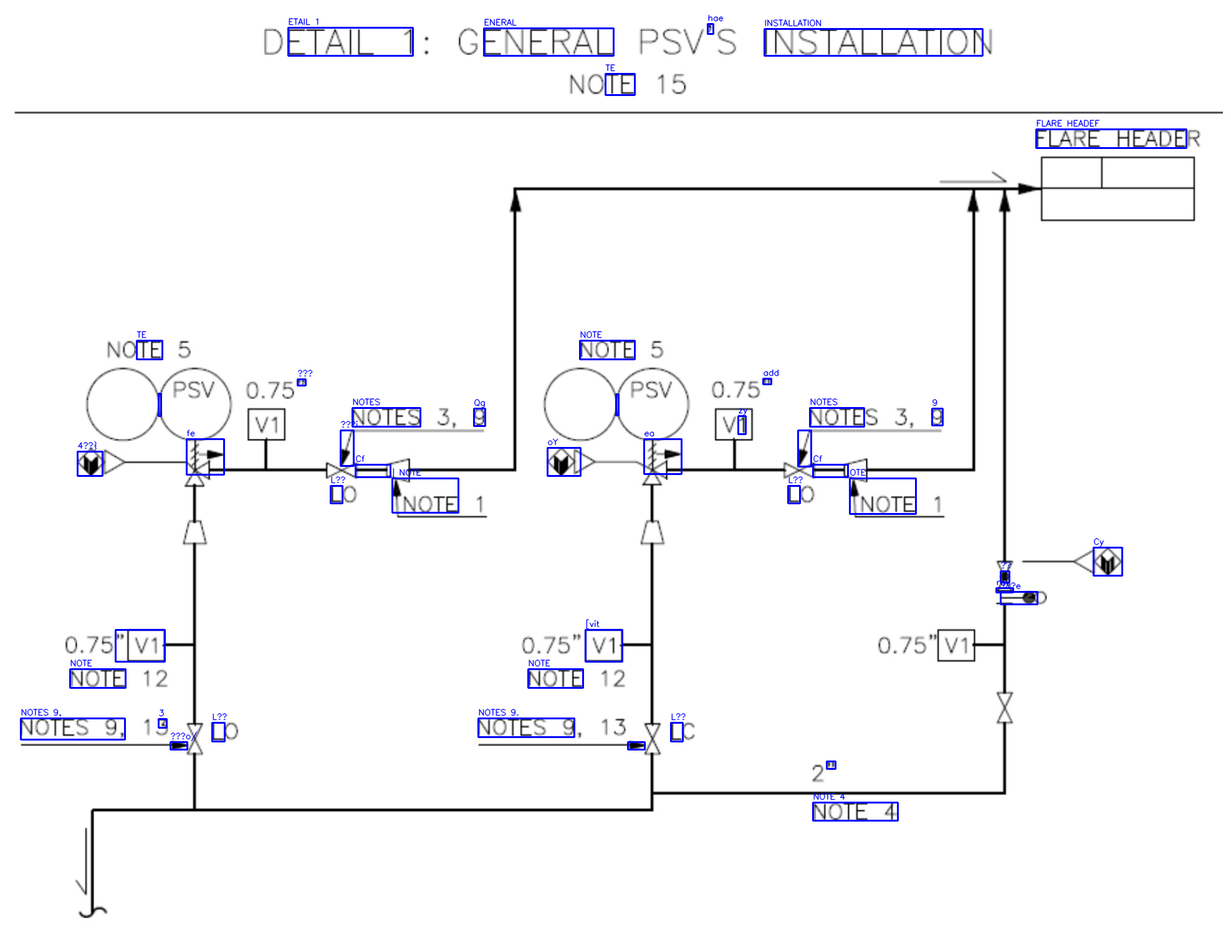Outro: (1037, 153, 1199, 223)
Válvula: (638, 436, 685, 492), (179, 442, 218, 491), (990, 684, 1019, 727), (183, 717, 208, 760), (778, 458, 819, 484), (319, 459, 362, 480), (991, 557, 1016, 593), (643, 721, 662, 758)
